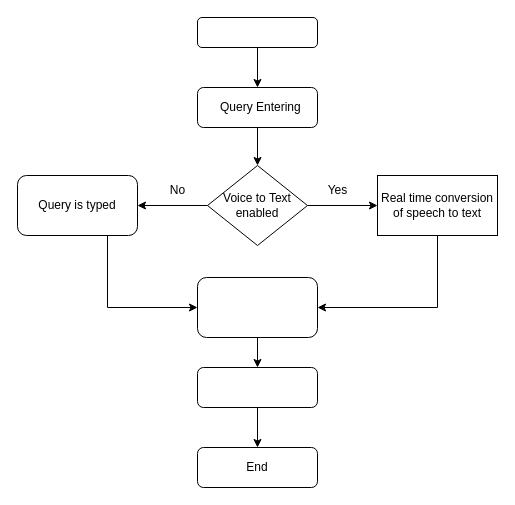
Some shapes in this 515 by 505 pixel diagram are drawn without their labels. The box of each missing label's shape, as (x1, y1, x2, y2) in pixels:
Query processing by ChatGPT model: (196, 276, 318, 338)
Response rendered on UI: (196, 366, 318, 408)
Start: (196, 16, 318, 48)
